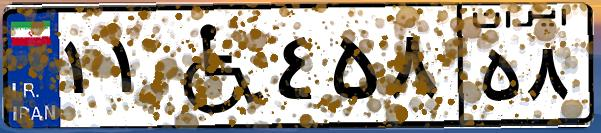1: (57, 26, 110, 100), (110, 28, 158, 98)
4: (270, 28, 330, 110)
5: (330, 28, 385, 110), (475, 38, 525, 113)
8: (385, 28, 445, 110), (525, 38, 570, 115)
ژ (معلولین و جانبازان): (158, 12, 270, 120)
